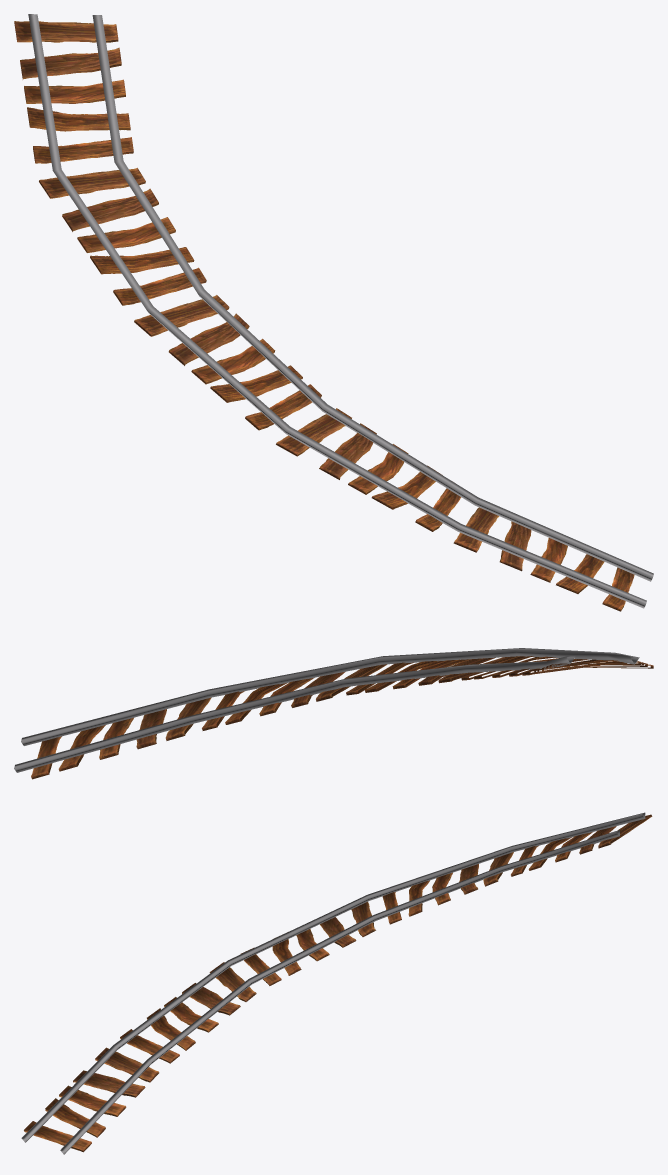
The model's file is SWORDLIGHT20_TRACK4.fbx.
The picture shows the model from 3 angles, top to bottom: view 1: azimuth 30°, elevation 25°; view 2: azimuth 210°, elevation 25°; view 3: azimuth 270°, elevation 25°; orthographic projection. The views are drawn at different scales.
Visible parts, largest first — view 1: SWORDLIGHT20_TRACK4; view 2: SWORDLIGHT20_TRACK4; view 3: SWORDLIGHT20_TRACK4.
Boxes of the visible parts, left/top/right/bottom form: SWORDLIGHT20_TRACK4: left=14, top=14, right=653, bottom=611; SWORDLIGHT20_TRACK4: left=14, top=648, right=653, bottom=779; SWORDLIGHT20_TRACK4: left=21, top=812, right=652, bottom=1154.
Bounding box in the file's own units: 60173 × 61035 × 136779.
Materials: 2 (2 with a texture image).
